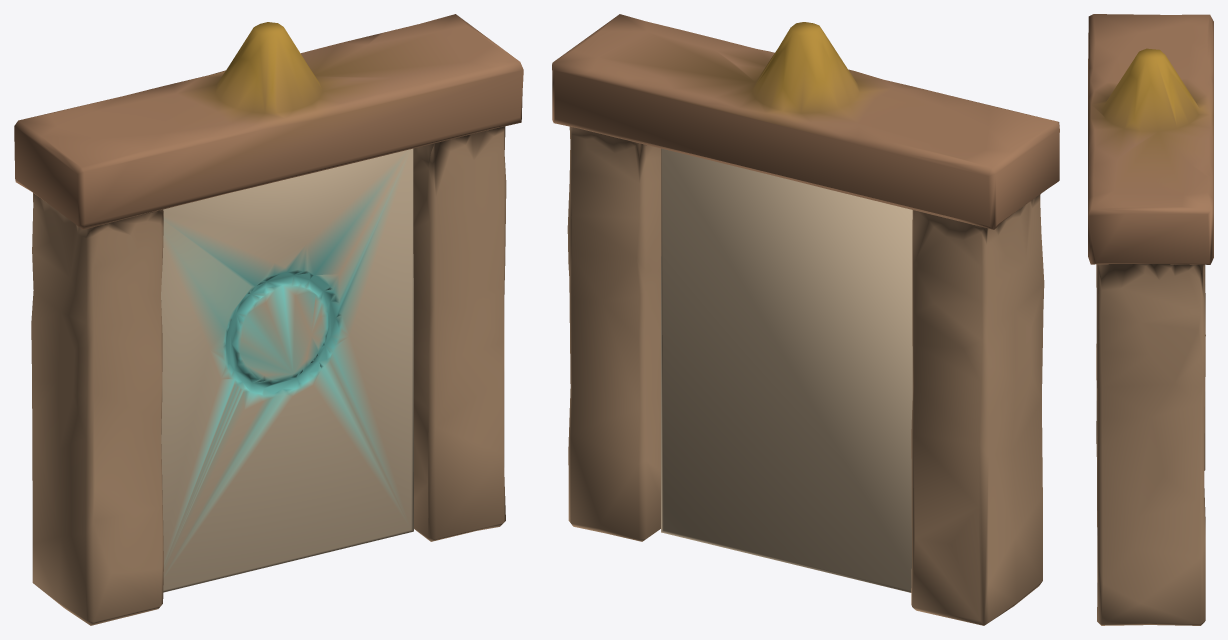
File: gate.glb
3 views of the same model, side by side, from view 1: azimuth 30°, elevation 25°; view 2: azimuth 150°, elevation 25°; view 3: azimuth 270°, elevation 25° (orthographic). The views are drawn at different scales.
Parts seen in each view (by area): view 1: Frame, door; view 2: Frame, door; view 3: Frame.
Boxes of the visible parts, box(x1,y1,x2,y2) form: Frame: box(14, 14, 523, 625); door: box(161, 148, 413, 592); Frame: box(552, 14, 1059, 625); door: box(661, 148, 912, 592); Frame: box(1088, 14, 1213, 625).
Bounding box in the file's own units: 5.2 × 5.91 × 1.4.
